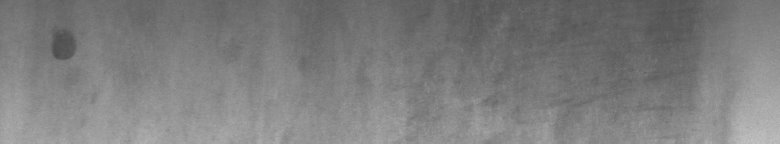fi: (48, 33, 96, 103)
